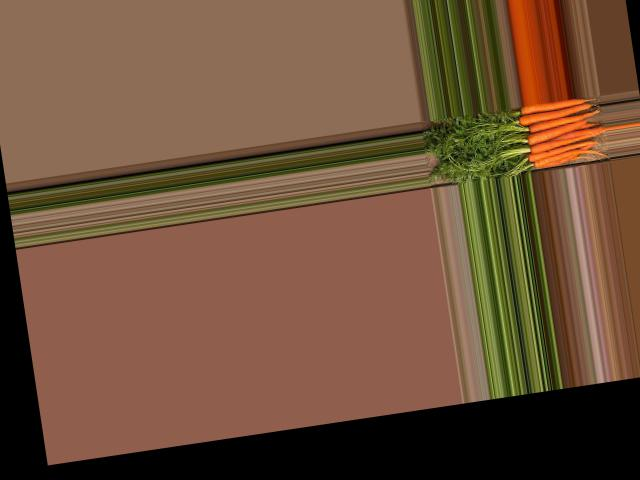carrot: (517, 95, 591, 118)
